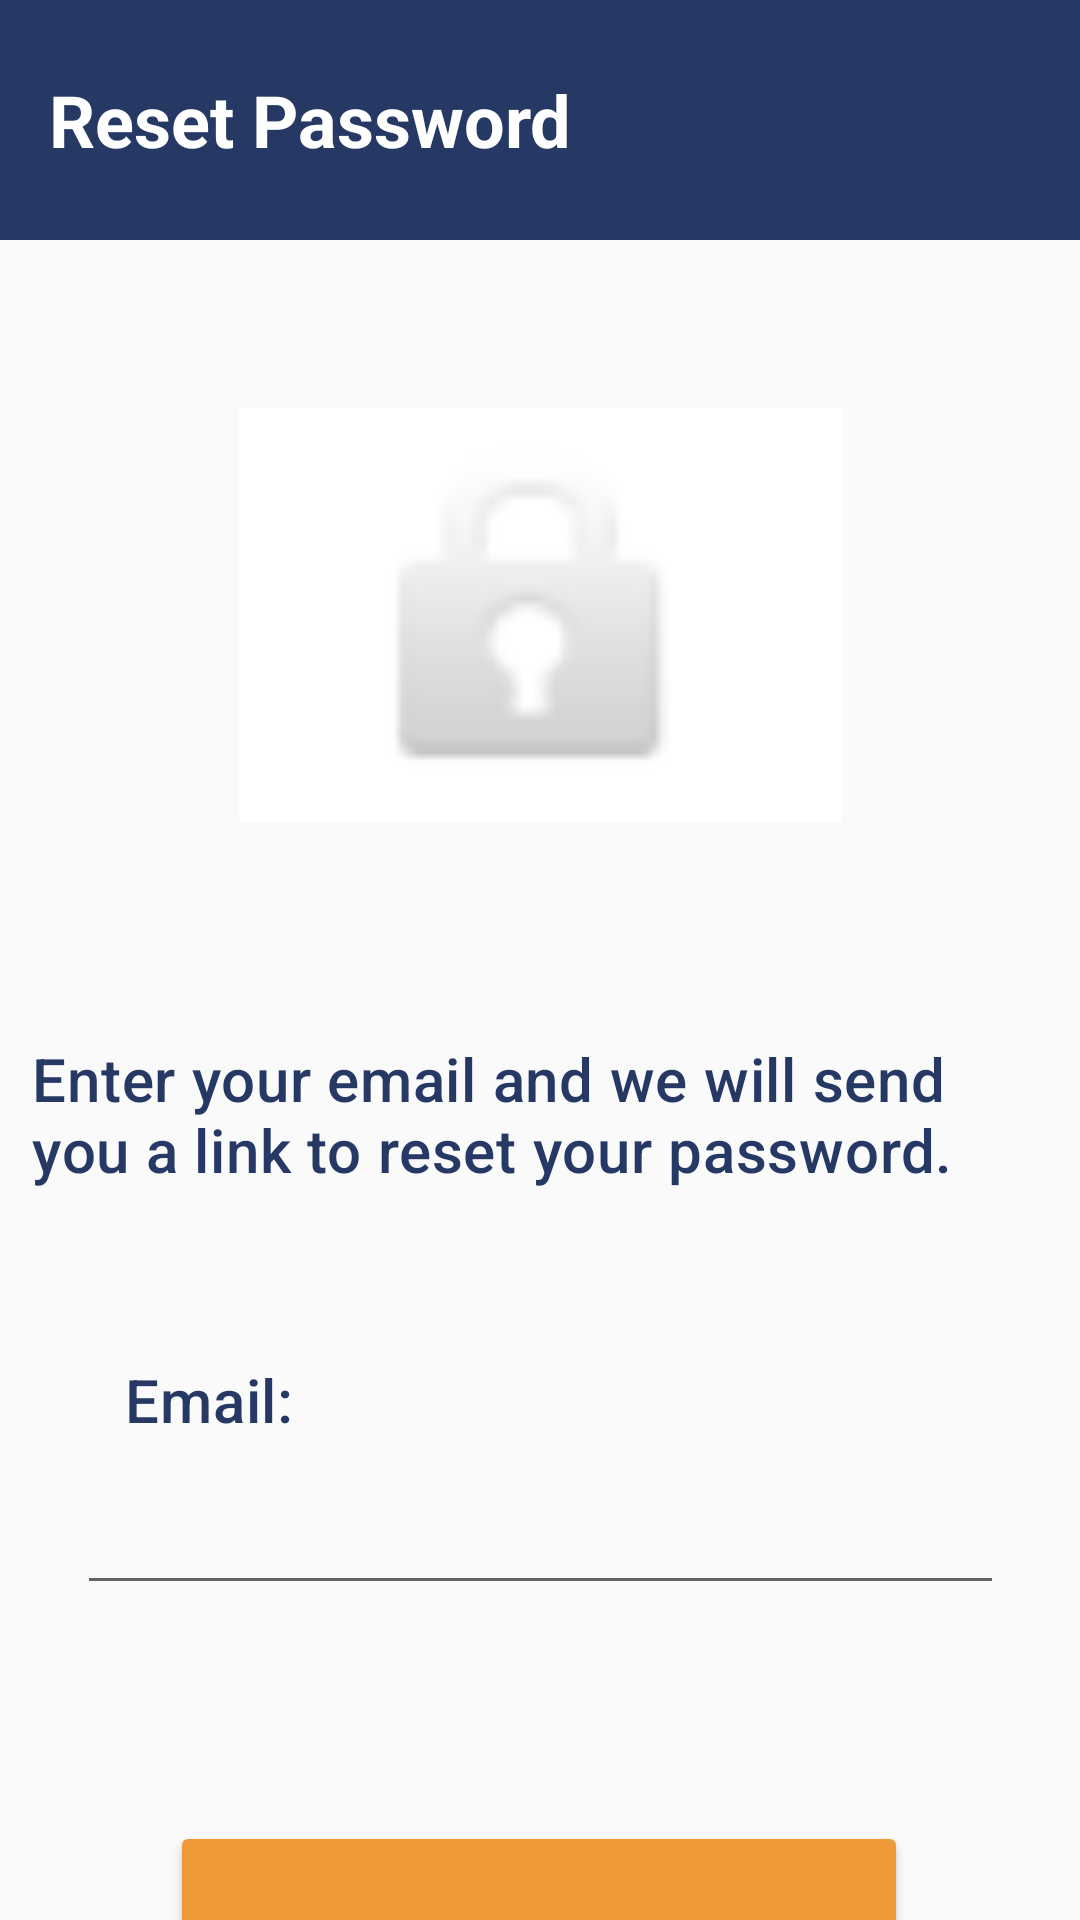

Screen size 1080w x 1920h. Icon name, then its center in pixels as point (x, y):
lock idle: point (529, 669)
